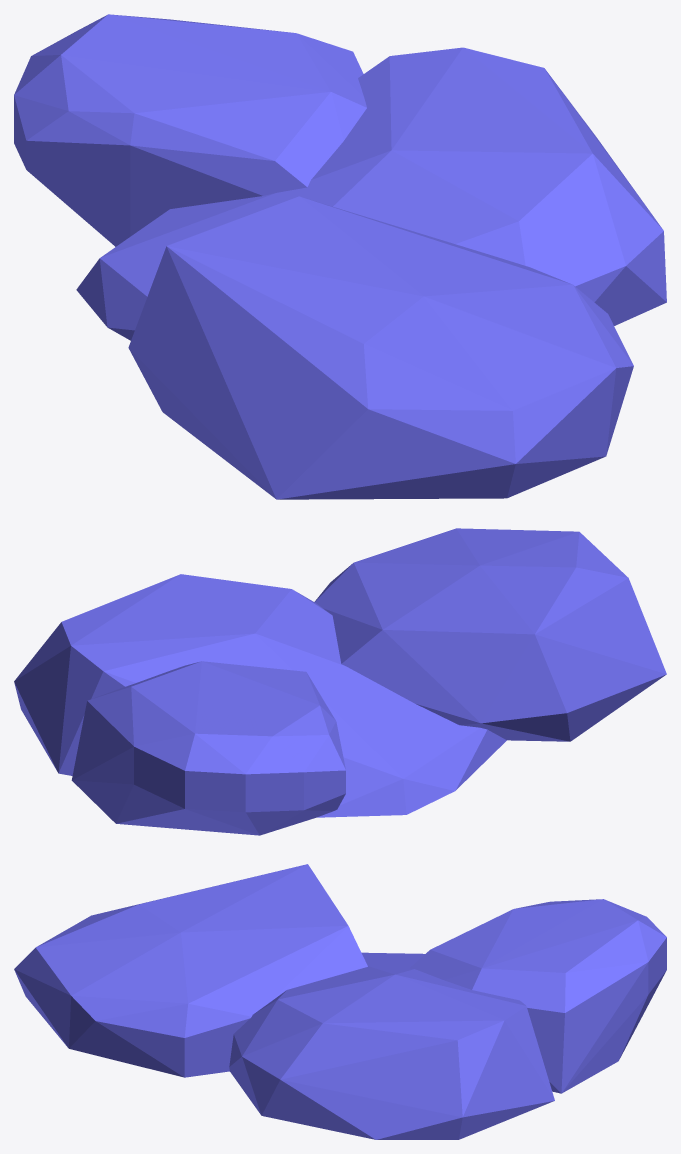
Rendered from Obstacle_10_Colllider_01.FBX.
The picture shows the model from 3 angles, top to bottom: view 1: azimuth 30°, elevation 25°; view 2: azimuth 150°, elevation 25°; view 3: azimuth 270°, elevation 25°; orthographic projection. The views are drawn at different scales.
Parts seen in each view (by area): view 1: COLLIDER1, COLLIDER3, COLLIDER2; view 2: COLLIDER1, COLLIDER3, COLLIDER2; view 3: COLLIDER1, COLLIDER3, COLLIDER2.
Boxes of the visible parts, x1,y1,x2,y2 form: COLLIDER1: (128,196,633,499); COLLIDER3: (76,47,666,340); COLLIDER2: (14,14,366,246); COLLIDER1: (314,528,666,741); COLLIDER3: (14,574,506,817); COLLIDER2: (71,661,345,835); COLLIDER1: (14,864,367,1077); COLLIDER3: (229,952,554,1139); COLLIDER2: (410,899,666,1093).
Size of the model in its own units: 166 by 41.39 by 237.
